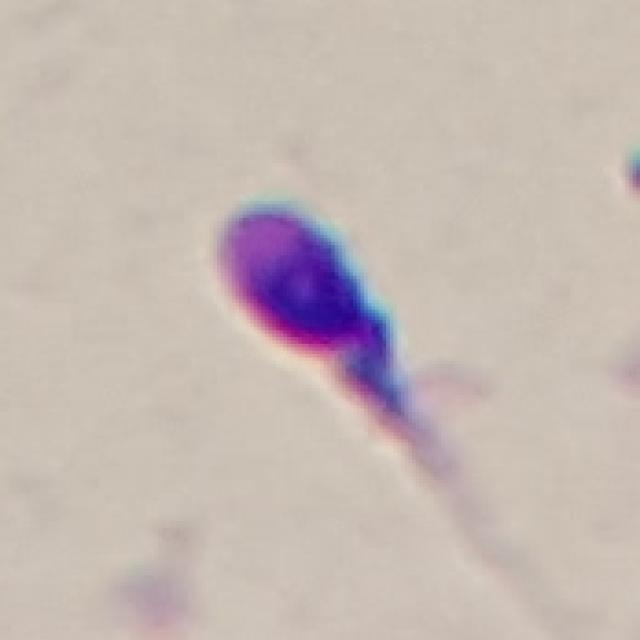abnormal sperm: (194, 194, 502, 534)
